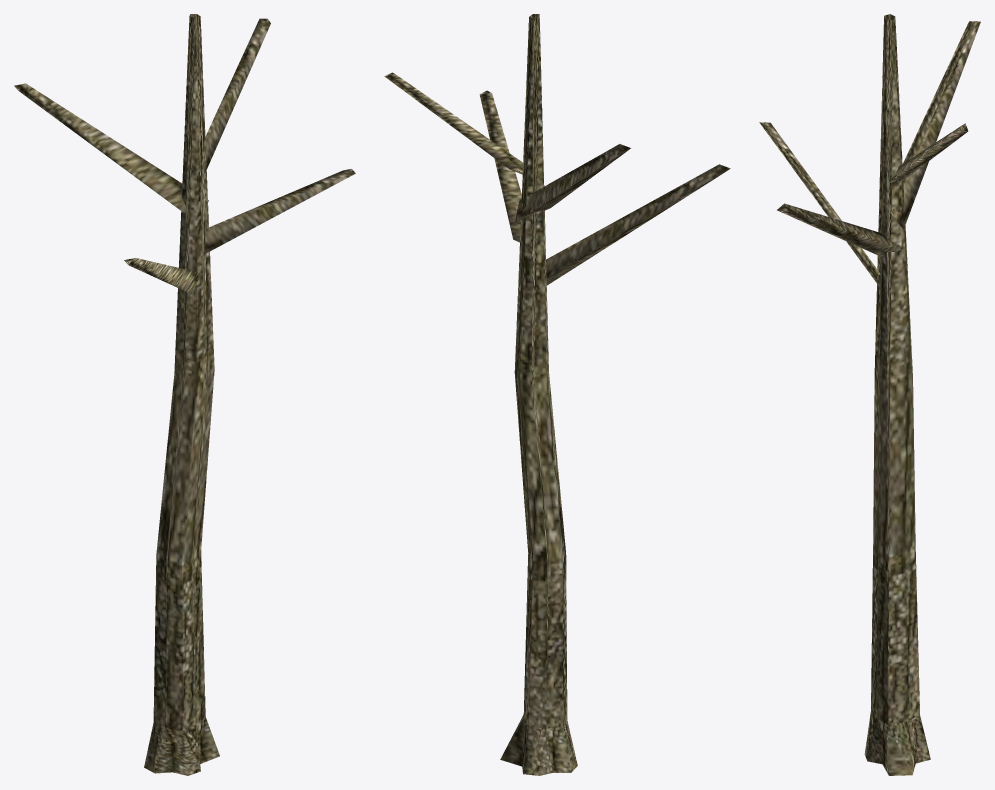
File: tree_tropic.dae
3 views of the same model, side by side, from view 1: azimuth 30°, elevation 25°; view 2: azimuth 150°, elevation 25°; view 3: azimuth 270°, elevation 25° (orthographic).
Parts seen in each view (by area): view 1: tree_oak_a; view 2: tree_oak_a; view 3: tree_oak_a.
Part boxes in pixels (box(x1,y1,x2,y2)): tree_oak_a: box(14, 14, 355, 775); tree_oak_a: box(384, 14, 730, 775); tree_oak_a: box(759, 14, 980, 775).
Bounding box in the file's own units: 6.1 × 4.7 × 17.45.
